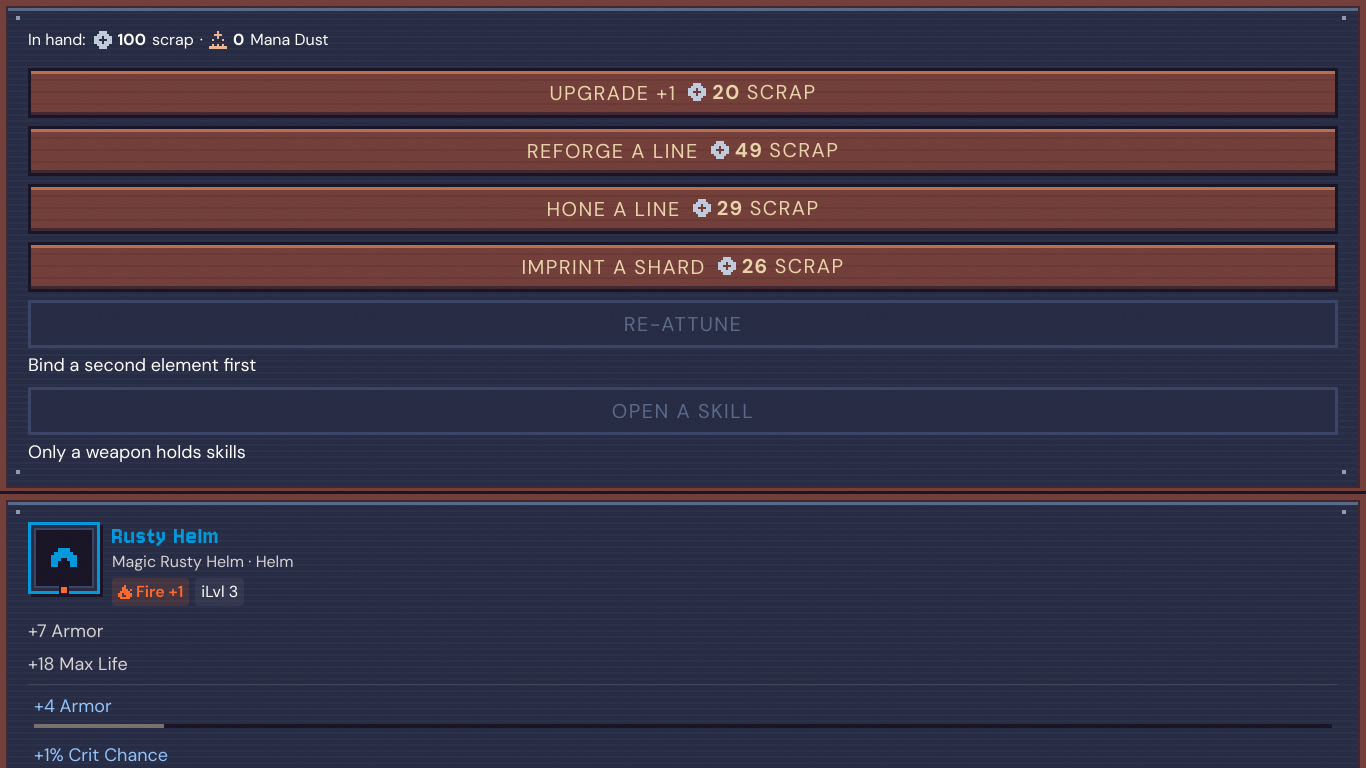
it: Temper › a line may take a better shard of its own affix, never one on another line
Click the button with test id "temper-op-imprint" at (683, 267), box [28,242,1338,292]
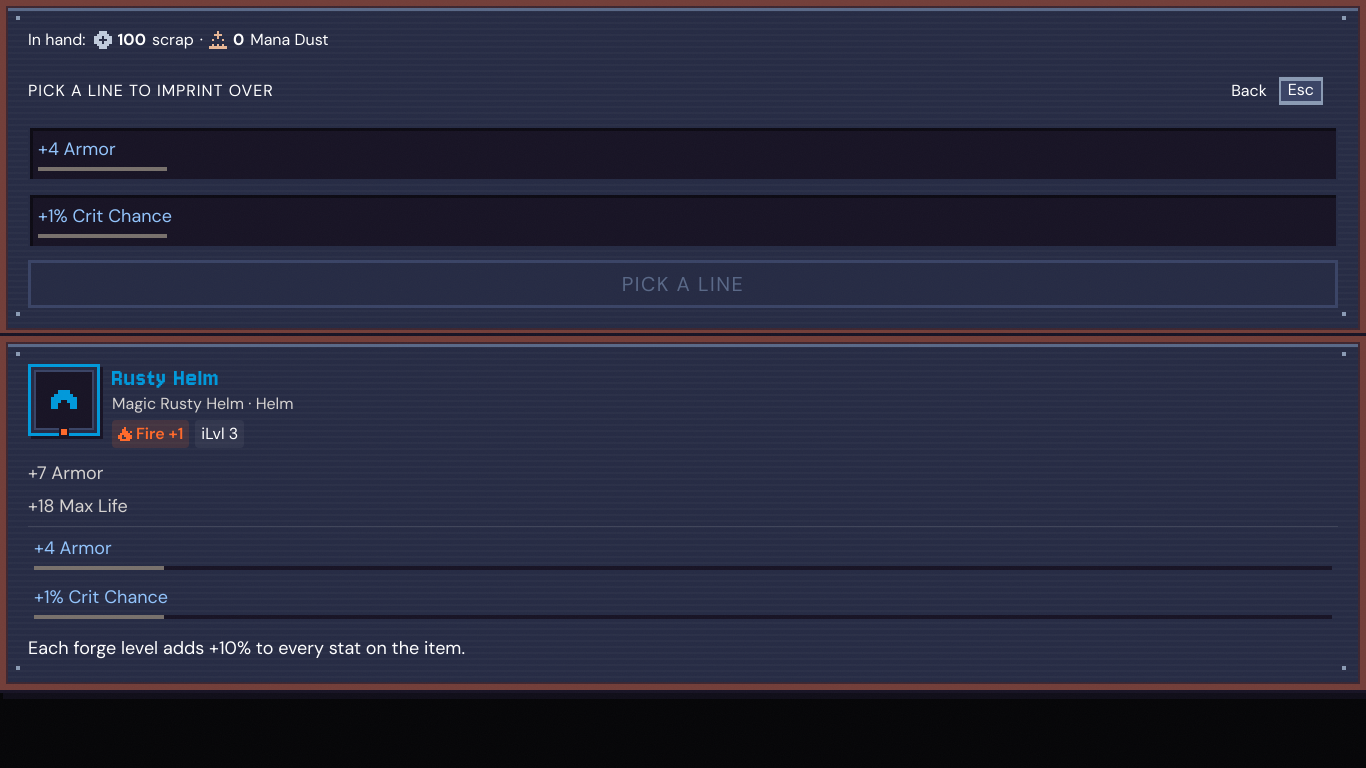
Click the button with test id "imprint-line-0" at (77, 149), box [28,126,1338,181]
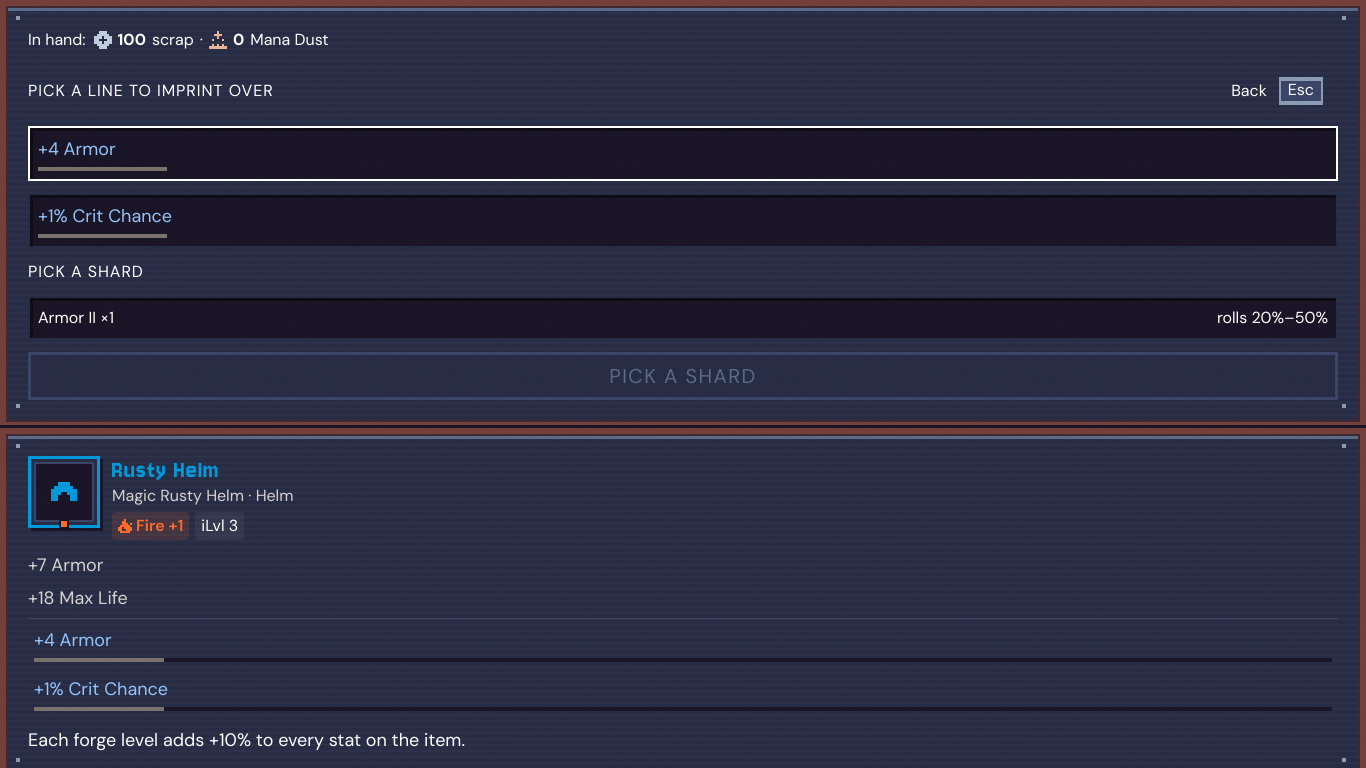
Check: the button with test id "shard-pick-armor-2" is shown, box [28,296,1338,340]
Click the button with test id "imprint-line-1" at (105, 216), box [28,193,1338,248]
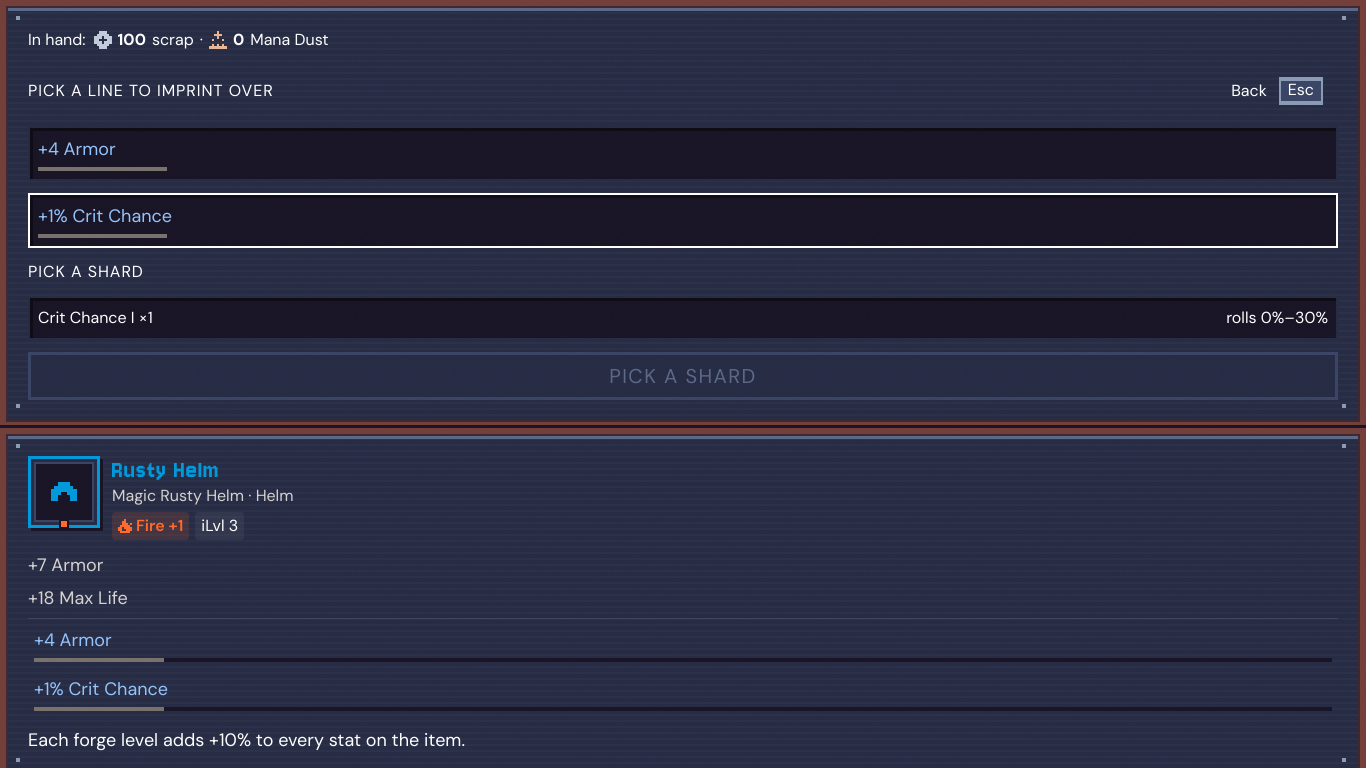
Check: the button with test id "shard-pick-critChance-1" is shown, box [28,296,1338,340]
Check: the button with test id "shard-pick-armor-2" is gone
